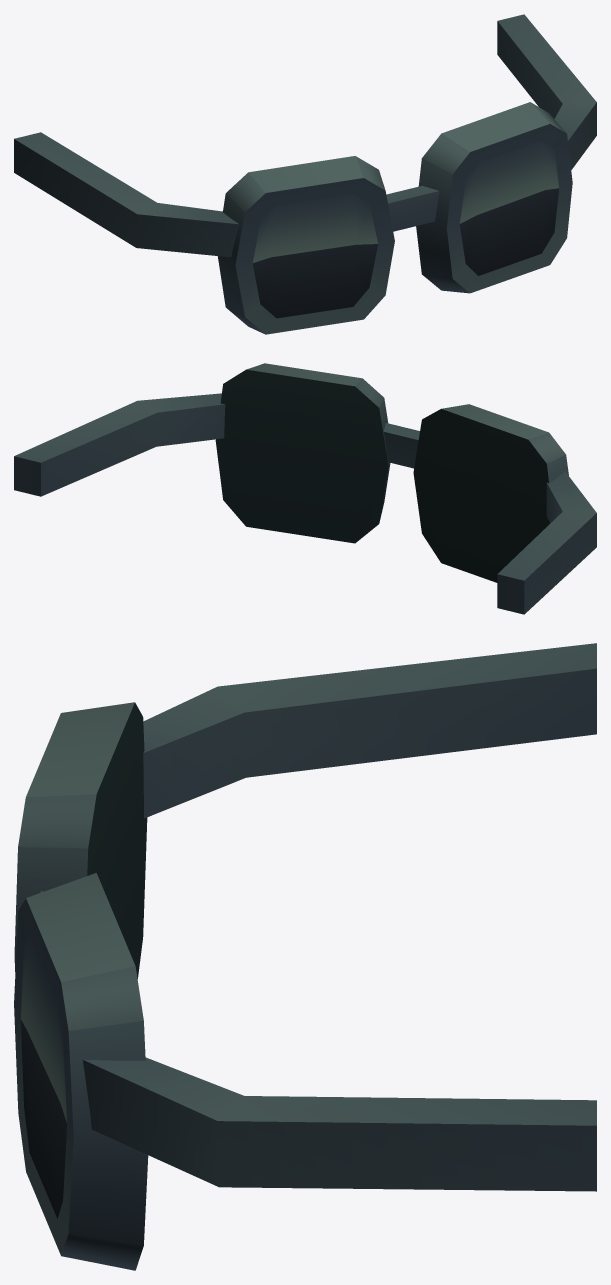
File: sunglasses.fbx
3 renders of one model, top to bottom at view 1: azimuth 30°, elevation 25°; view 2: azimuth 150°, elevation 25°; view 3: azimuth 270°, elevation 25°, orthographic. The views are drawn at different scales.
Parts seen in each view (by area): view 1: sunglasses; view 2: sunglasses; view 3: sunglasses.
Part boxes in pixels (x1,y1,x2,y2): sunglasses: (14, 14, 596, 334); sunglasses: (14, 363, 596, 614); sunglasses: (14, 643, 596, 1270).
Bounding box in the file's own units: 66 × 19.42 × 33.69.
Materials: 1 (1 with a texture image).
